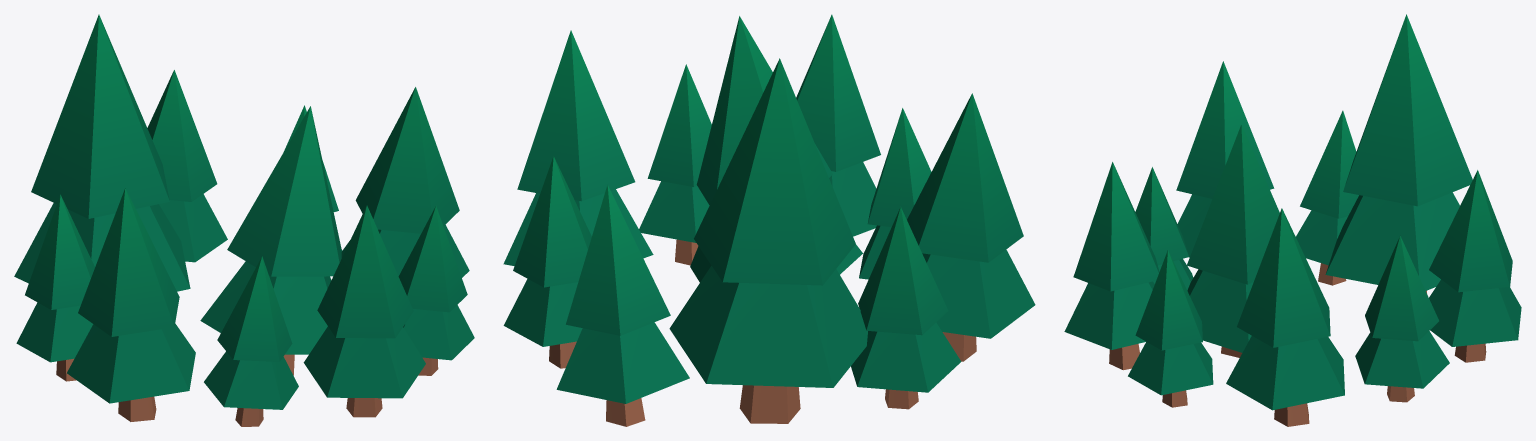
File: trees_A_medium.gltf
The picture shows the model from 3 angles, left to right: view 1: azimuth 30°, elevation 25°; view 2: azimuth 150°, elevation 25°; view 3: azimuth 270°, elevation 25°; orthographic projection. The views are drawn at different scales.
Visible parts, largest first — view 1: trees_A_medium; view 2: trees_A_medium; view 3: trees_A_medium.
Part boxes in pixels (left/top/right/bottom): trees_A_medium: left=14, top=14, right=474, bottom=426; trees_A_medium: left=503, top=14, right=1035, bottom=426; trees_A_medium: left=1064, top=14, right=1521, bottom=426.
Bounding box in the file's own units: 1.75 × 1.3 × 1.81.
1 material, 1 textured.
